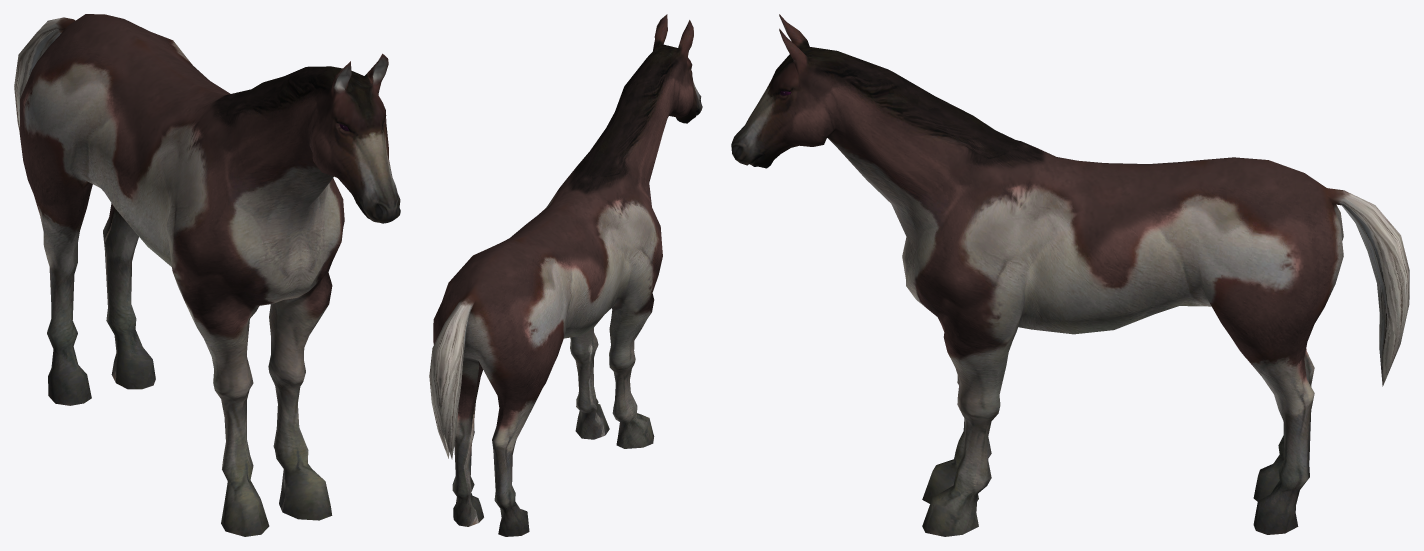
File: Horse1.glb
The picture shows the model from 3 angles, left to right: view 1: azimuth 30°, elevation 25°; view 2: azimuth 150°, elevation 25°; view 3: azimuth 270°, elevation 25°; orthographic projection. The views are drawn at different scales.
Parts seen in each view (by area): view 1: Horse1; view 2: Horse1; view 3: Horse1.
Boxes of the visible parts, x1,y1,x2,y2 form: Horse1: (14,14,400,536); Horse1: (429,14,702,536); Horse1: (731,14,1409,536).
Size of the model in its own units: 0.6007 by 1.93 by 2.41.
Materials: 1 (1 with a texture image).
